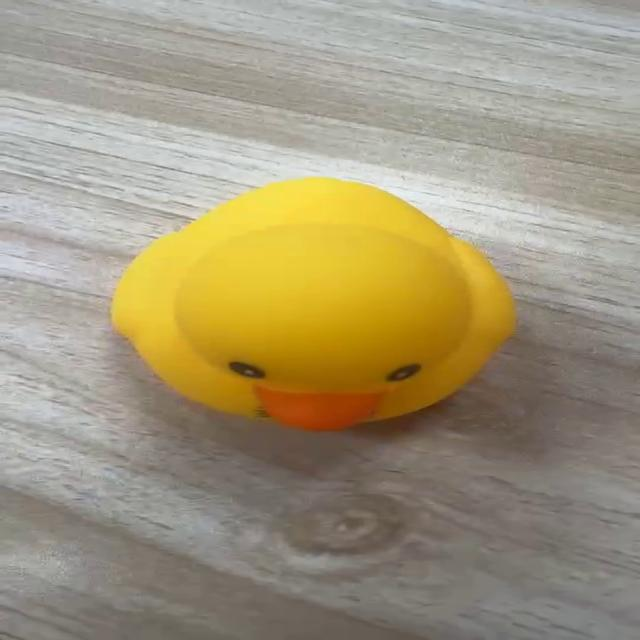yellow_duck: (108, 175, 518, 432)
